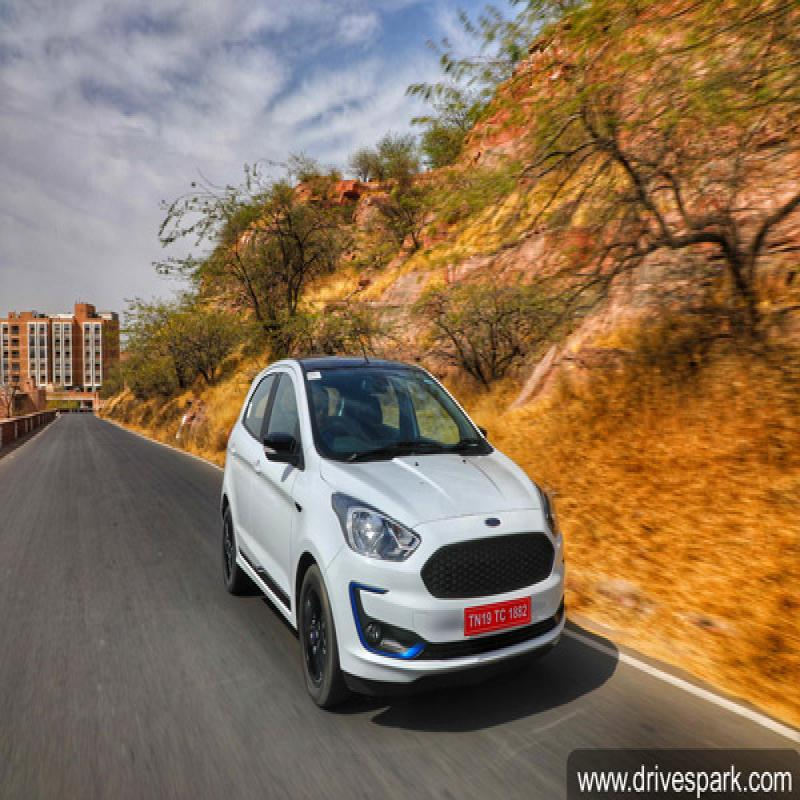car: (214, 365, 563, 671)
